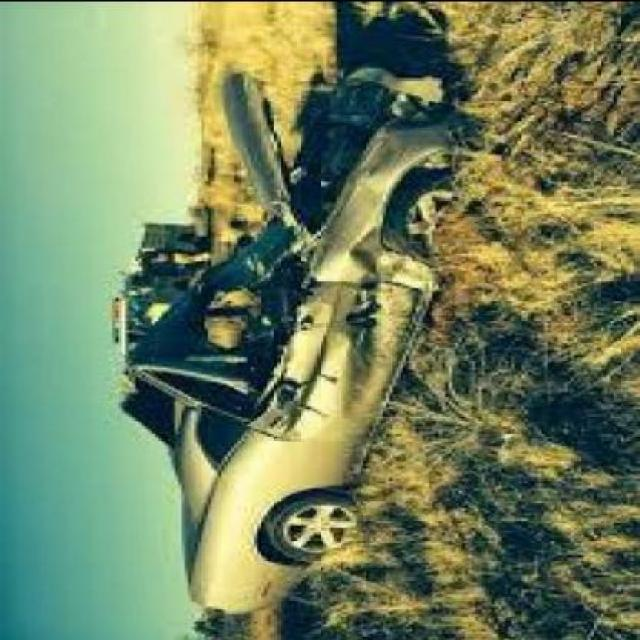damage: (123, 63, 462, 438)
